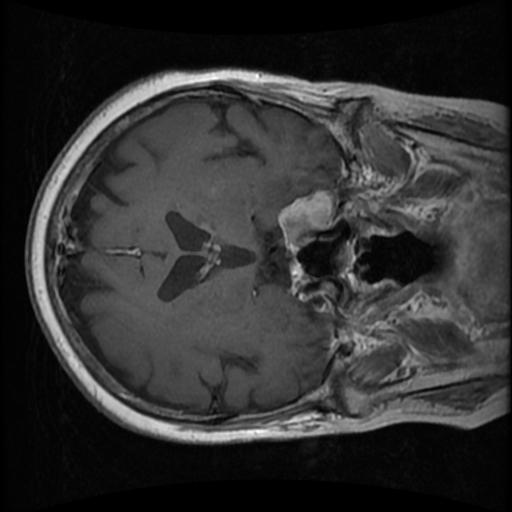meningioma: (274, 190, 335, 249)
